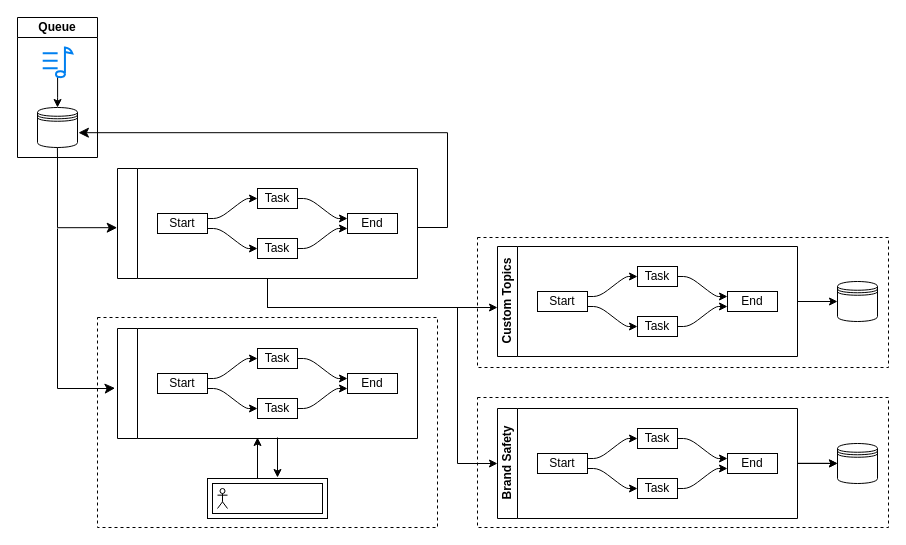
Some shapes in this 906 by 545 pixel diagram are drawn without their labels. The shapes that lost their labels are listed below. From the top down, each one's box as (x1, y1, x2, y2) in pixels, then its label:
(116, 168, 418, 278): Contextualization
(116, 328, 418, 438): Vector Database
(206, 478, 328, 518): Similarity Search
